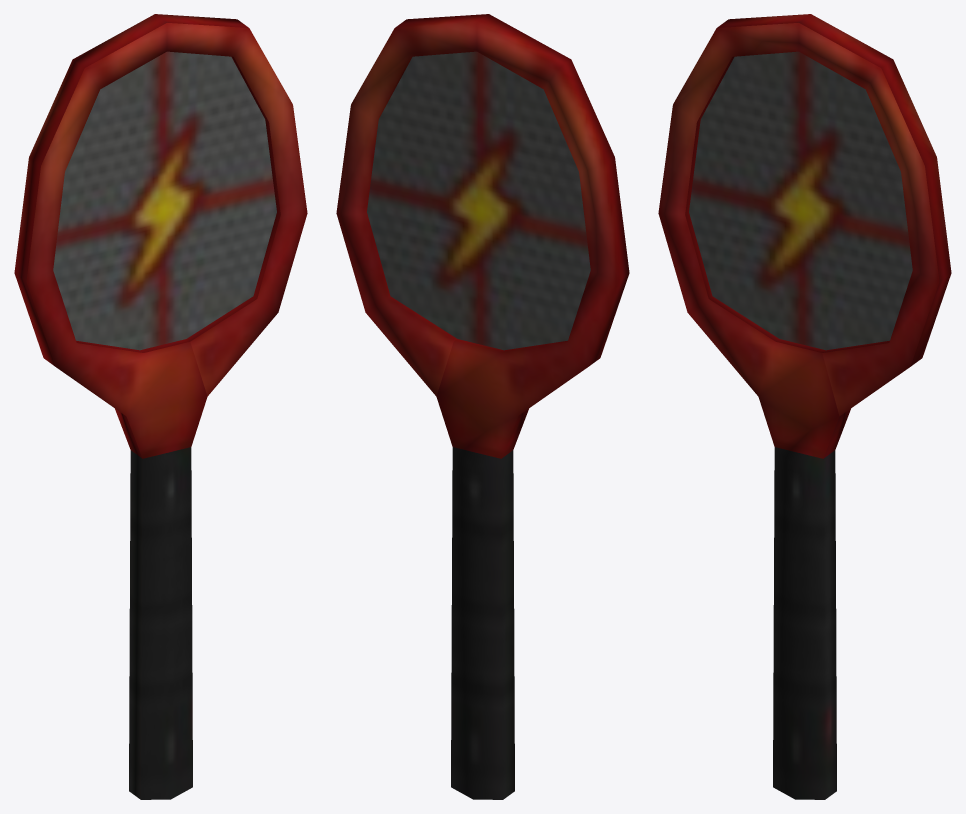
The model's file is bugZapper.glb.
3 renders of one model, left to right at view 1: azimuth 30°, elevation 25°; view 2: azimuth 150°, elevation 25°; view 3: azimuth 330°, elevation 25°, orthographic.
Parts seen in each view (by area): view 1: bugZapper; view 2: bugZapper; view 3: bugZapper.
Part boxes in pixels (bbox=[...]): bugZapper: bbox=[14, 14, 307, 799]; bugZapper: bbox=[336, 14, 629, 799]; bugZapper: bbox=[658, 14, 951, 799].
Size of the model in its own units: 0.2726 by 0.7172 by 0.0334.
1 material, 1 textured.
